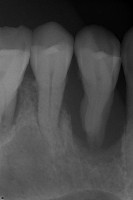Dental Caries: (62, 75, 127, 166)
